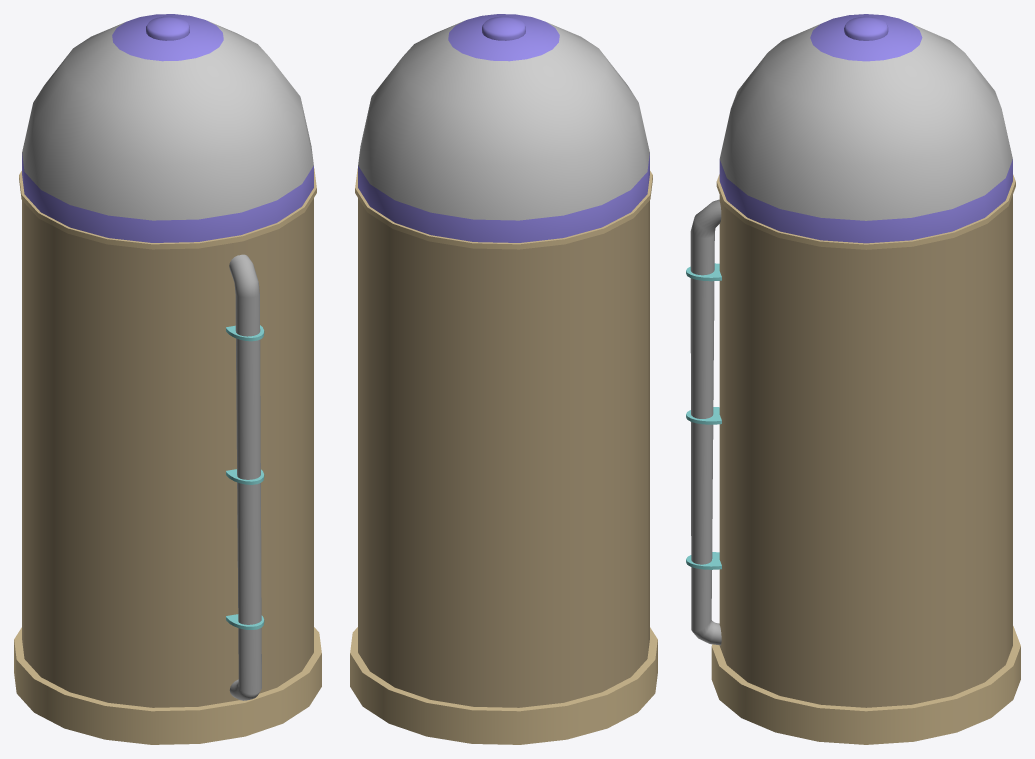
File: Silo_more colors.fbx
3 views of the same model, side by side, from view 1: azimuth 30°, elevation 25°; view 2: azimuth 150°, elevation 25°; view 3: azimuth 270°, elevation 25° (orthographic).
Visible parts, largest first — view 1: polySurface2, polySurface1, polySurface4, polySurface3; view 2: polySurface2, polySurface1, polySurface3; view 3: polySurface2, polySurface1, polySurface4, polySurface3.
Part boxes in pixels (x1,y1,x2,y2): polySurface2: (14,168,321,744); polySurface1: (22,14,313,242); polySurface4: (229,254,261,700); polySurface3: (146,16,189,40); polySurface2: (350,168,657,744); polySurface1: (358,14,649,242); polySurface3: (482,16,525,40); polySurface2: (711,174,1020,744); polySurface1: (719,14,1012,243); polySurface4: (690,199,721,645); polySurface3: (844,16,888,40).
Size of the model in its own units: 2.11 by 4.95 by 2.28.
